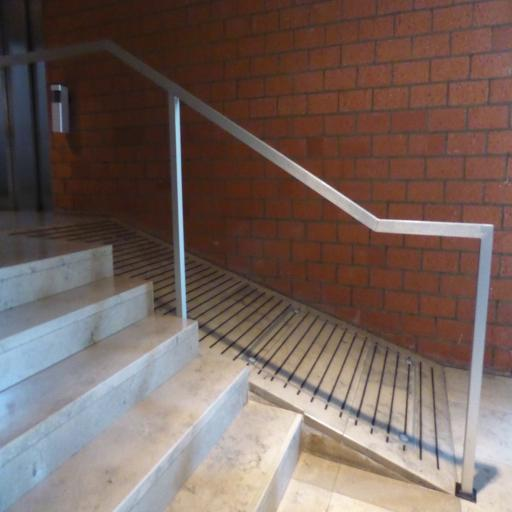ramp: (50, 220, 454, 497)
stairs: (1, 246, 301, 512)
